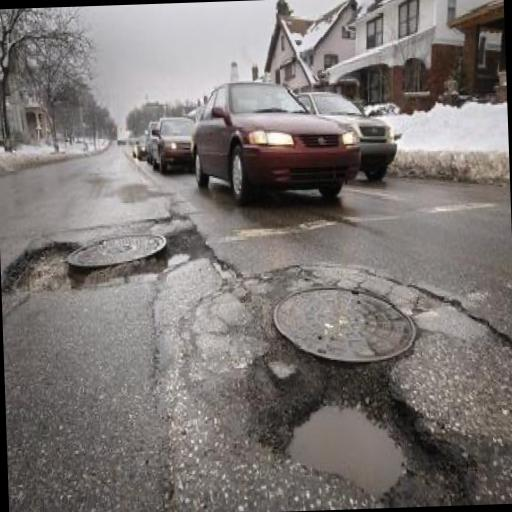pothole: (245, 339, 482, 511), (0, 234, 82, 302), (160, 216, 218, 274)
